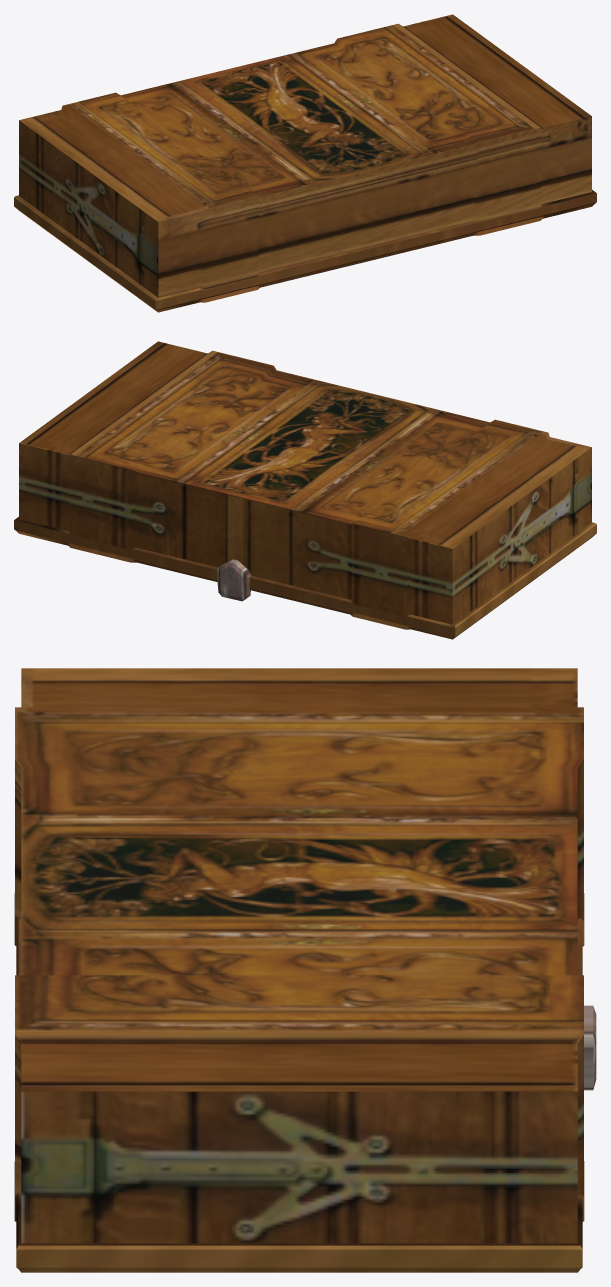
The model's file is PAST_LockedChest_TopHalf 1.fbx.
The picture shows the model from 3 angles, top to bottom: view 1: azimuth 30°, elevation 25°; view 2: azimuth 150°, elevation 25°; view 3: azimuth 270°, elevation 25°; orthographic projection. The views are drawn at different scales.
Parts seen in each view (by area): view 1: pasted__polySurface8; view 2: pasted__polySurface8; view 3: pasted__polySurface8.
Boxes of the visible parts, left/top/right/bottom form: pasted__polySurface8: left=14, top=14, right=596, bottom=312; pasted__polySurface8: left=14, top=341, right=596, bottom=639; pasted__polySurface8: left=14, top=668, right=596, bottom=1272.
Bounding box in the file's own units: 225 × 50.03 × 128.
Materials: 1 (1 with a texture image).
